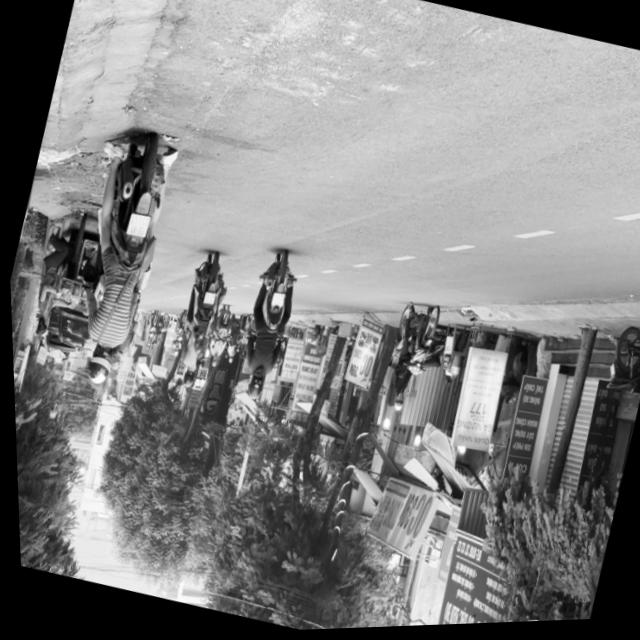helmet: (80, 345, 114, 389)
licenseplate: (46, 125, 190, 397)
nohelmet: (124, 212, 150, 239)
